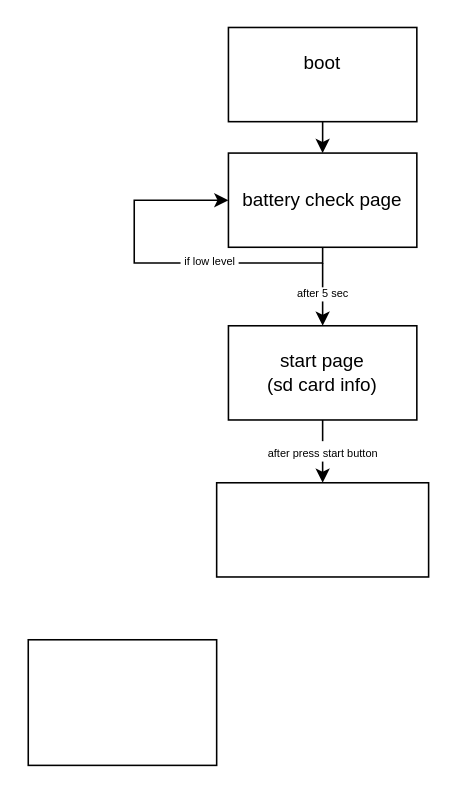
The diagram is 455 pixels wide and 793 high, and some of its shapes have lost their labels. The box of each missing label's shape, as (x1, y1, x2, y2) in pixels:
mode selection page (flash / info / set): (215, 481, 429, 577)
panel type selection (duplex/simplex/cab): (27, 638, 217, 765)
